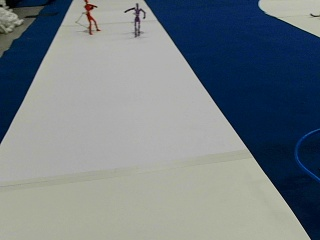pedestrian: (124, 2, 146, 36), (82, 0, 99, 34)
